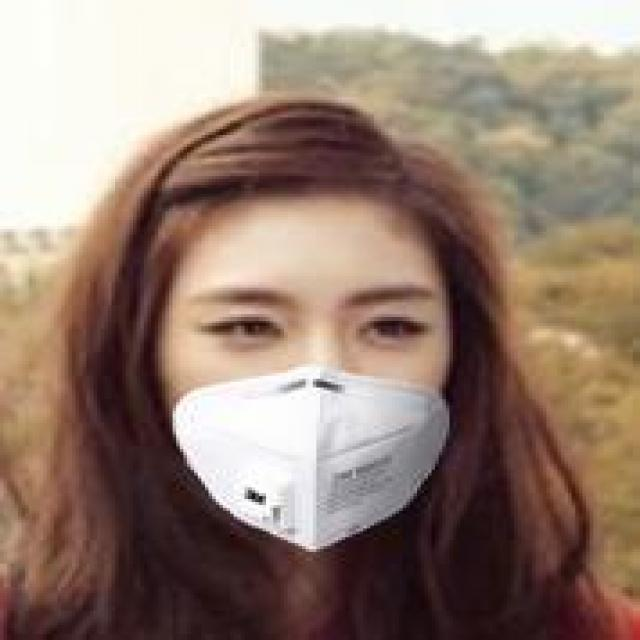mask: (108, 85, 550, 558)
